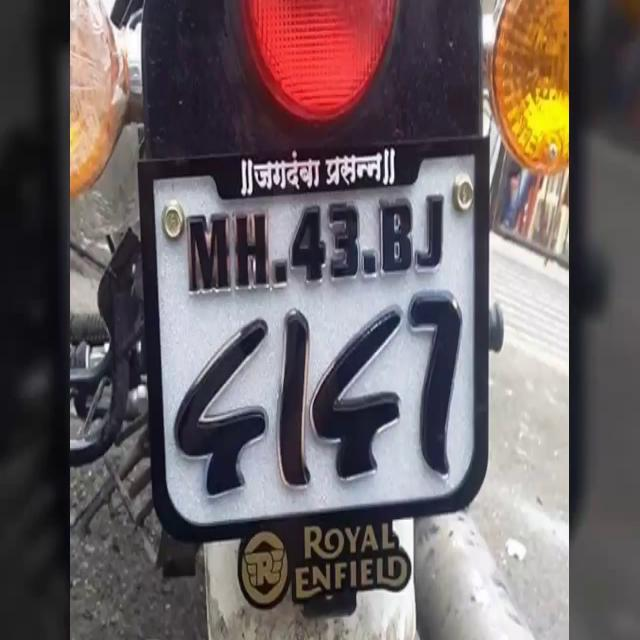number plate: (139, 138, 489, 540)
